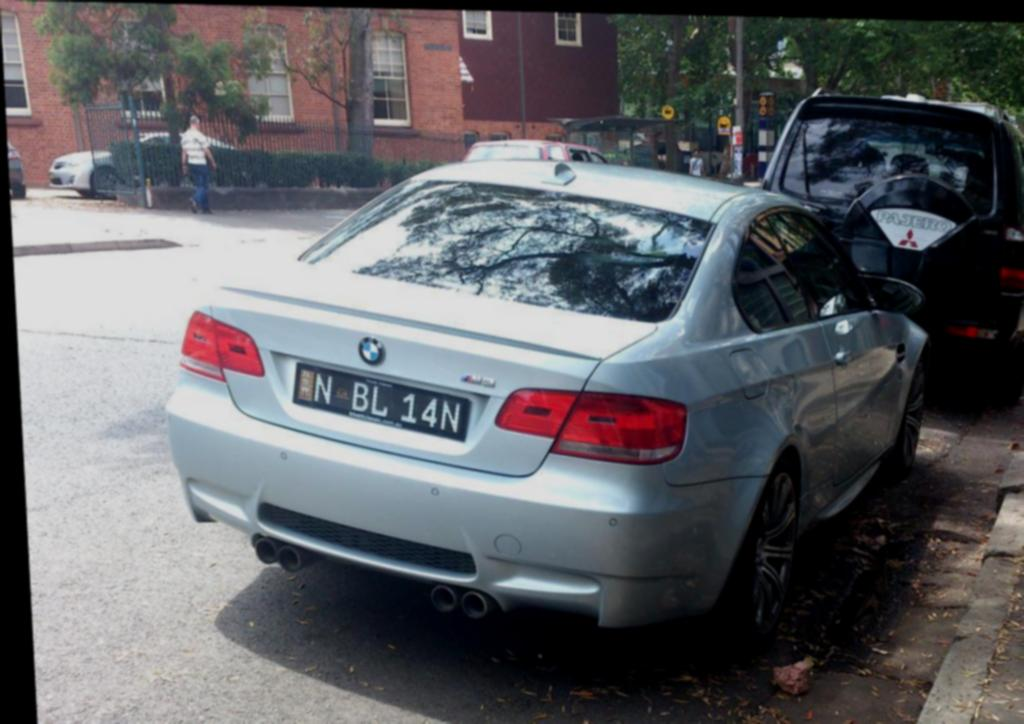License_Plate: (288, 365, 472, 441)
